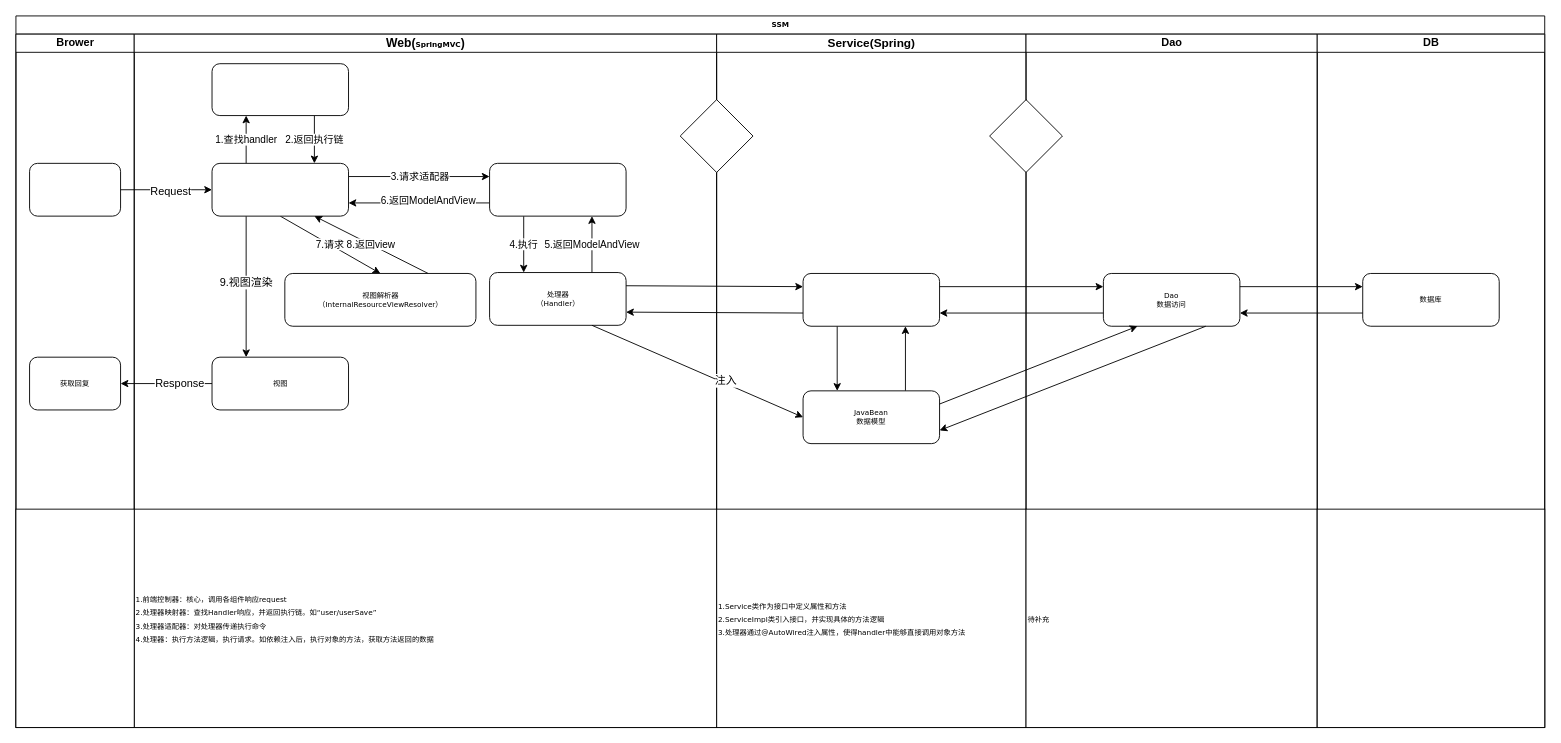
The diagram is 1561 pixels wide and 743 high, and some of its shapes have lost their labels. Here are the shapes that lost their labels. From the top down, the centre of each, then its label:
(x=280, y=89): 处理器映射器 （HandlerMapping）
(x=716, y=135): 接口 Service
(x=1025, y=135): 接口 Dao
(x=75, y=189): 点击发送请求
(x=280, y=189): 前端控制器 （DispatherServlet）
(x=557, y=189): 处理器适配器 （HandlerAdapt）
(x=871, y=299): Service 业务逻辑处理
(x=74, y=618): 1.浏览器中发送请求给Web层 2.浏览器接收从Web返回的数据
